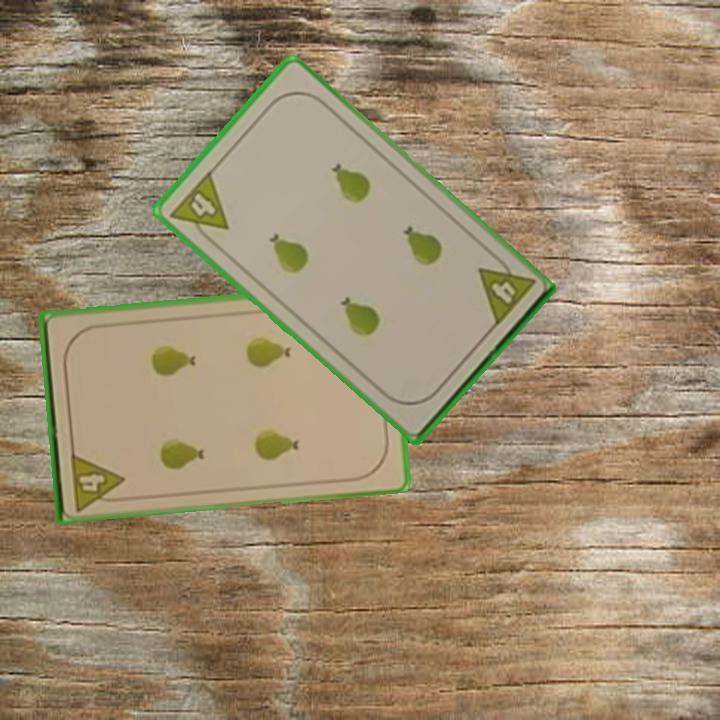4p: (166, 167, 232, 248), (474, 250, 538, 330), (67, 449, 128, 514)
